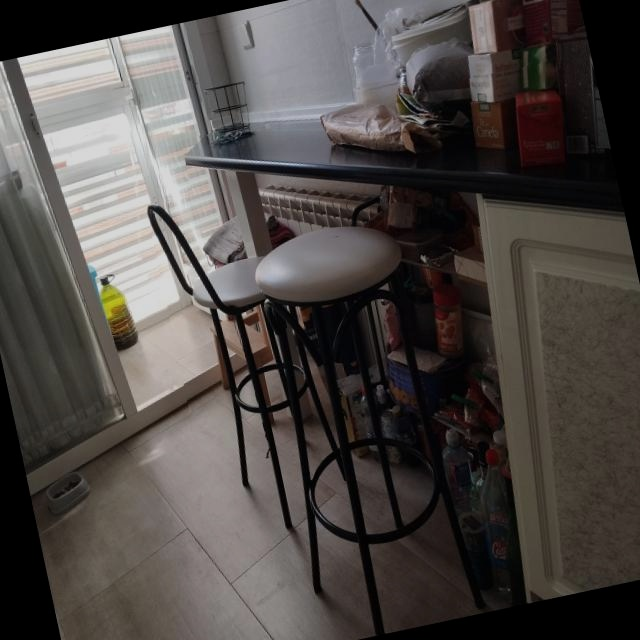cabinet: (477, 195, 640, 603)
chair: (255, 227, 485, 634), (148, 206, 293, 531)
countertop: (185, 119, 623, 211)
